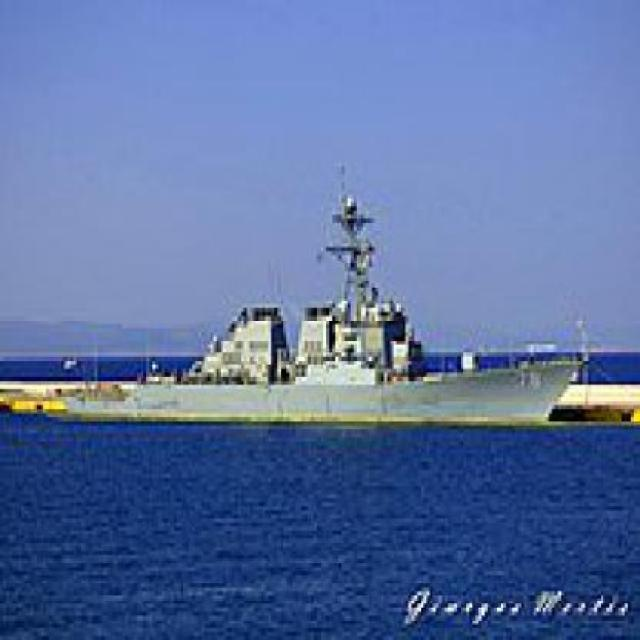warship2: (37, 183, 559, 431)
